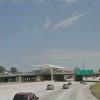Car: (12, 86, 41, 100)
